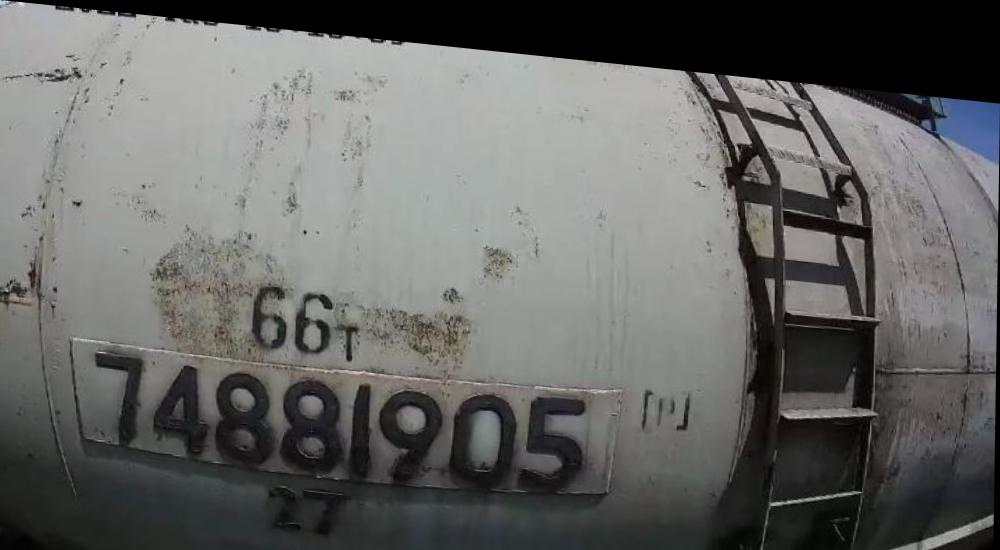Wagon-number: (85, 337, 603, 493)
